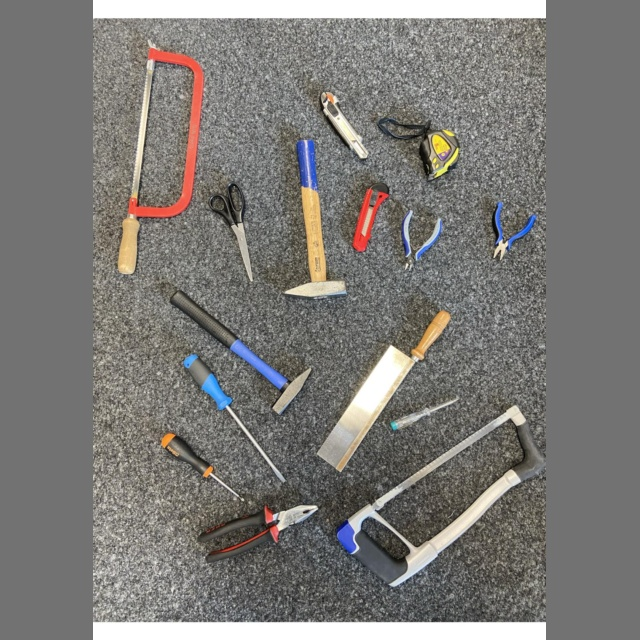scissor: (206, 180, 255, 284)
screwdriver: (180, 351, 288, 485), (159, 430, 247, 504), (388, 396, 464, 434)
